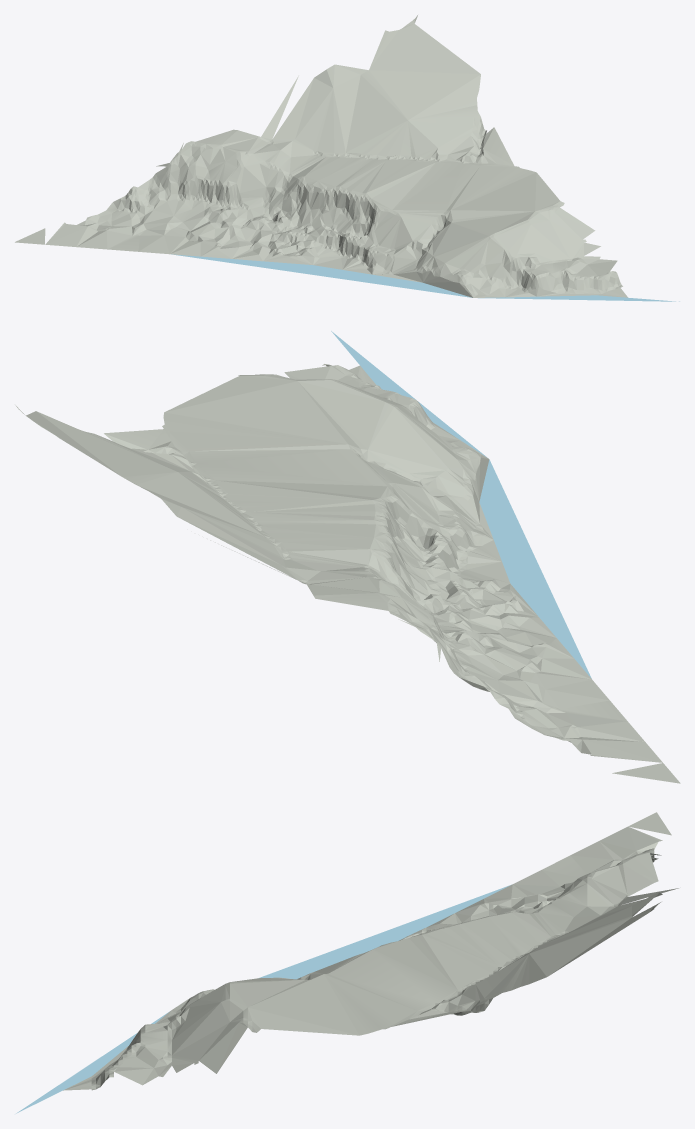
The model's file is terrain-context-C-x1-z0.glb.
3 views of the same model, one above another, from view 1: azimuth 30°, elevation 25°; view 2: azimuth 150°, elevation 25°; view 3: azimuth 270°, elevation 25° (orthographic). The views are drawn at different scales.
Parts seen in each view (by area): view 1: C-x1-z0; view 2: C-x1-z0; view 3: C-x1-z0.
Boxes of the visible parts, bbox=[...] form: C-x1-z0: bbox=[15, 15, 679, 301]; C-x1-z0: bbox=[15, 331, 680, 783]; C-x1-z0: bbox=[16, 812, 678, 1113].
Size of the model in its own units: 80.2 by 22.76 by 74.69.
